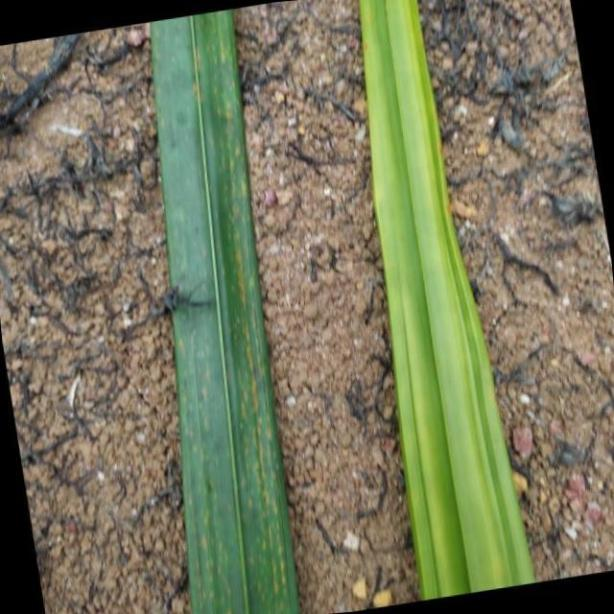nitrogen: (358, 0, 533, 601), (139, 5, 299, 614)
